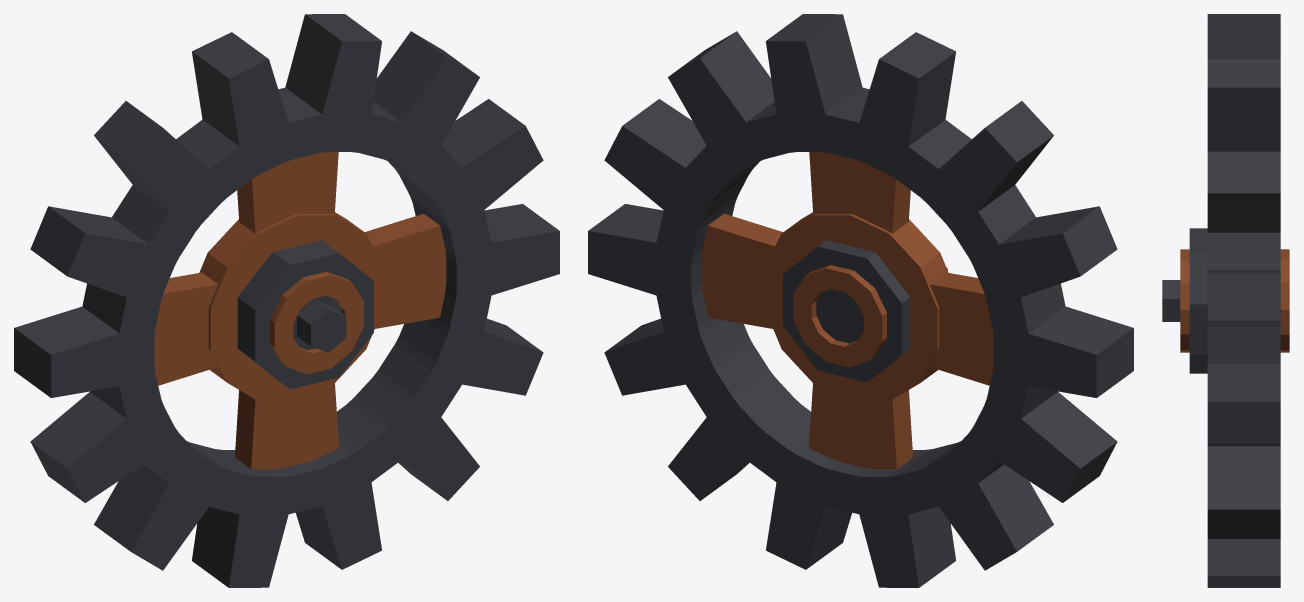
Rendered from gear_fixed_s.fbx.
3 renders of one model, left to right at view 1: azimuth 30°, elevation 25°; view 2: azimuth 150°, elevation 25°; view 3: azimuth 270°, elevation 25°, orthographic.
Parts seen in each view (by area): view 1: Gear_Fixed_S_Rim, Gear_Fixed_S_Spokes, Gear_Fixed_S_Hub; view 2: Gear_Fixed_S_Rim, Gear_Fixed_S_Spokes, Gear_Fixed_S_Hub; view 3: Gear_Fixed_S_Rim, Gear_Fixed_S_Hub.
Part boxes in pixels (x1,y1,x2,y2): Gear_Fixed_S_Rim: [14, 14, 559, 587]; Gear_Fixed_S_Spokes: [154, 152, 446, 469]; Gear_Fixed_S_Hub: [237, 240, 373, 389]; Gear_Fixed_S_Rim: [588, 14, 1133, 587]; Gear_Fixed_S_Spokes: [701, 152, 993, 469]; Gear_Fixed_S_Hub: [783, 240, 947, 382]; Gear_Fixed_S_Rim: [1207, 14, 1280, 587]; Gear_Fixed_S_Hub: [1162, 228, 1289, 373].
Bounding box in the file's own units: 63.39 × 62.95 × 14.
